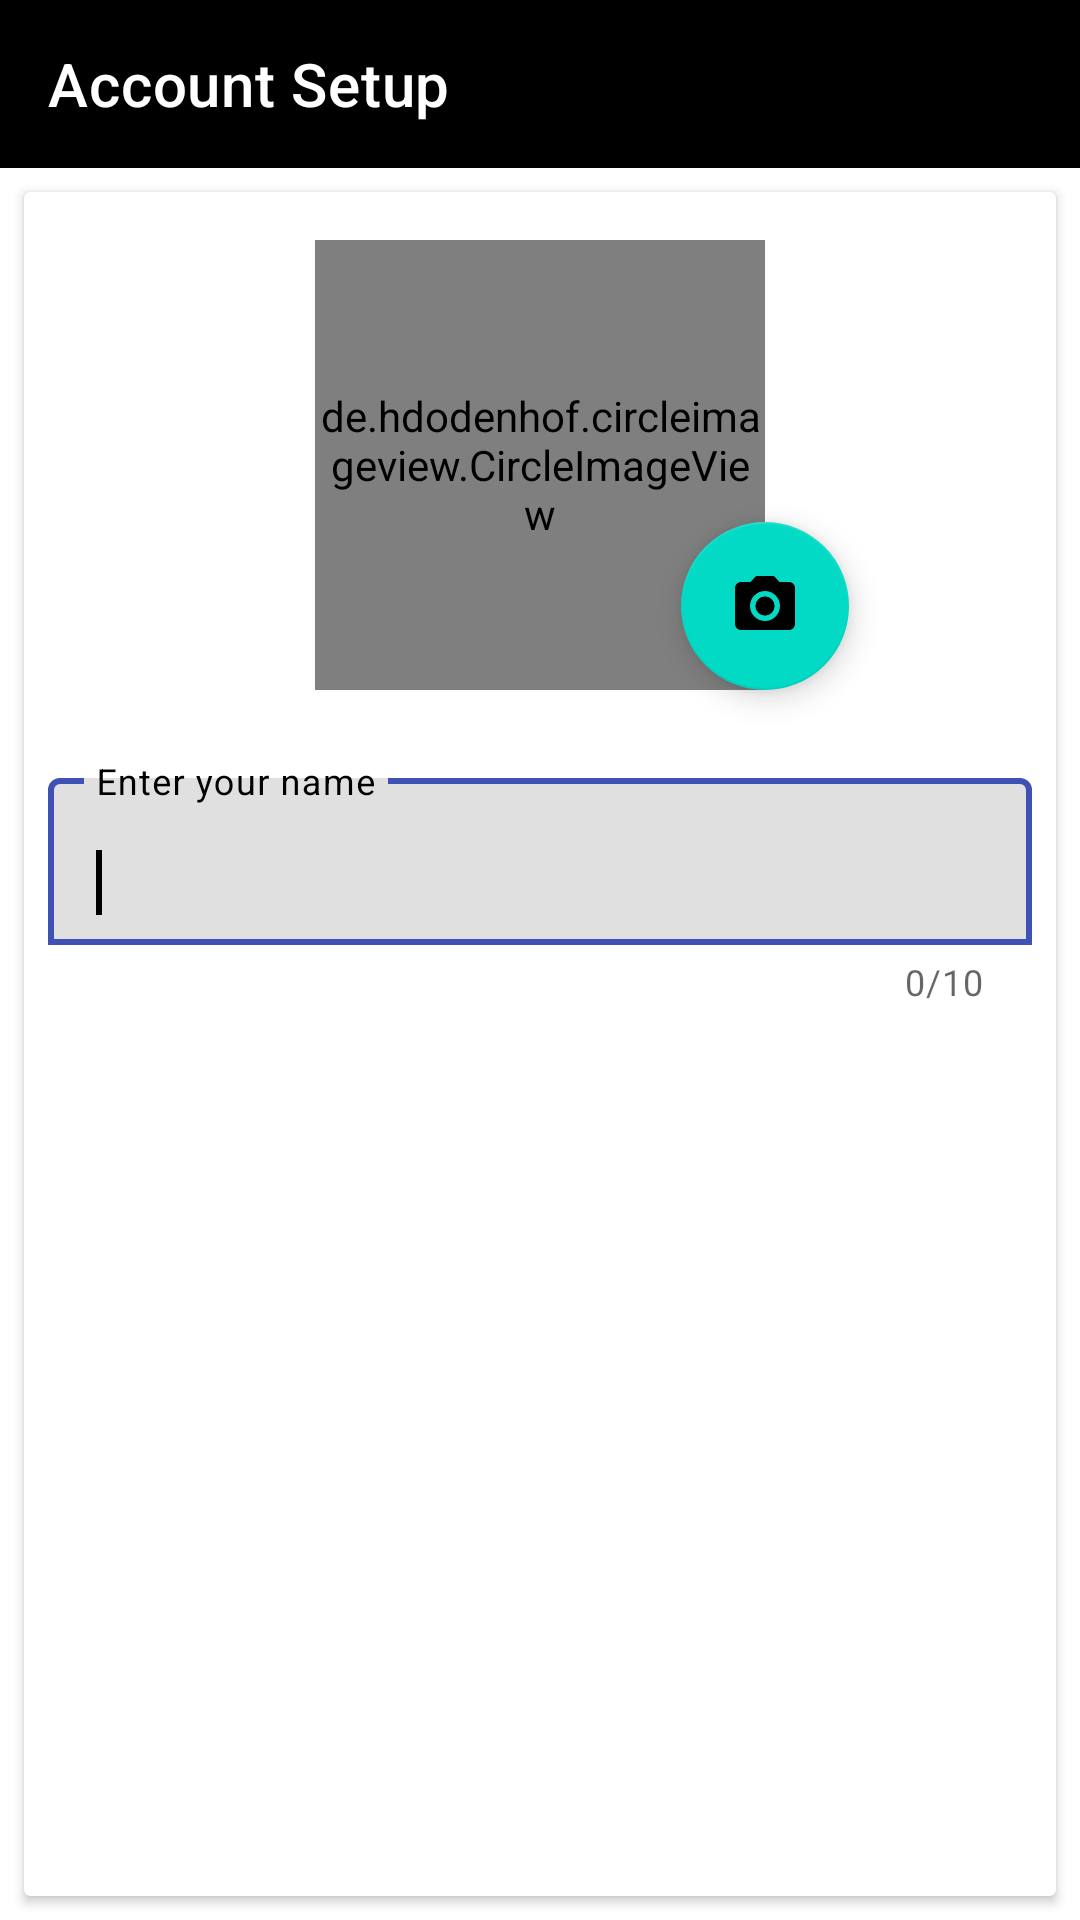

Icons on this 1080px x 1920px Android screen, each with the point to tap as [x,y]:
camera: [765,606]
